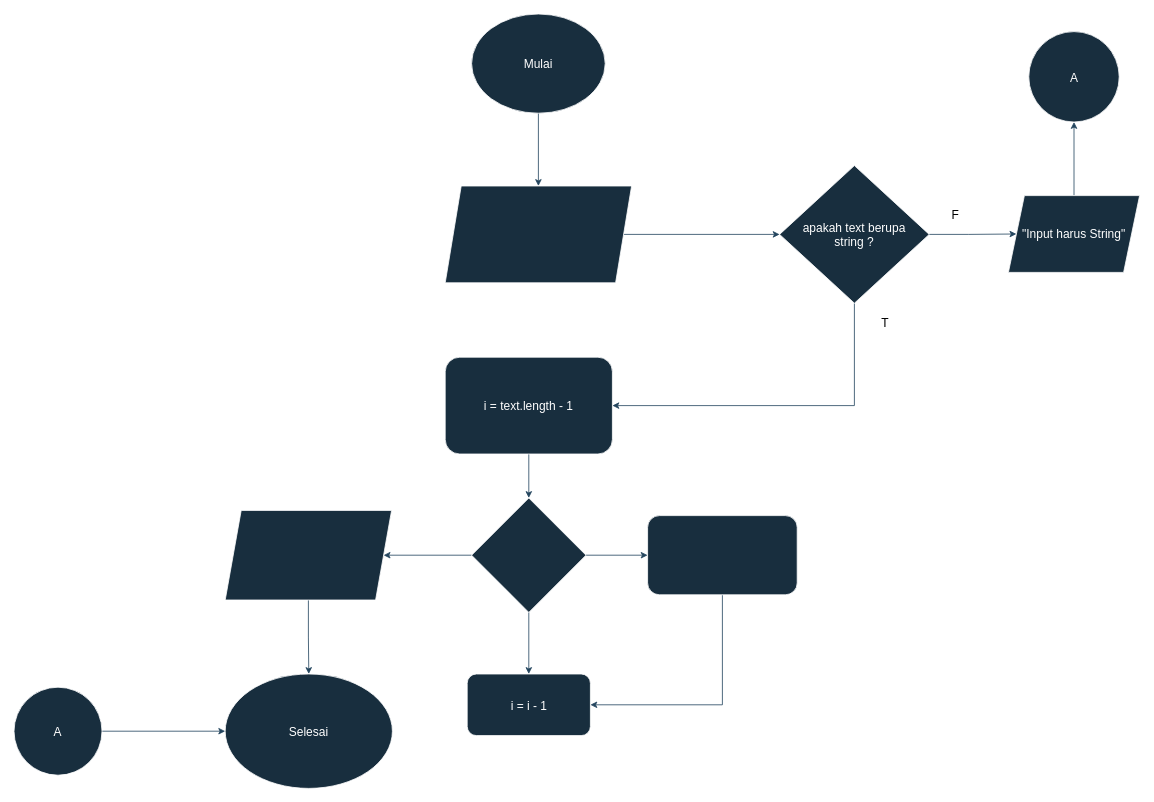
This 1154x802 diagram has some shape labels left out. Each missing label, with the centre of its shape:
i > 0: [528,554]
Masukan input text contoh "jakarta": [538,234]
text[i] == "a" / "A" maka ganti "a" => "o": [722,555]
Yang tadinya "jakarta" menjadi "jokorto": [308,555]
